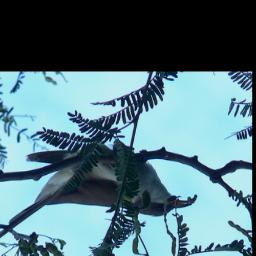Cuckoo: (0, 137, 196, 253)
